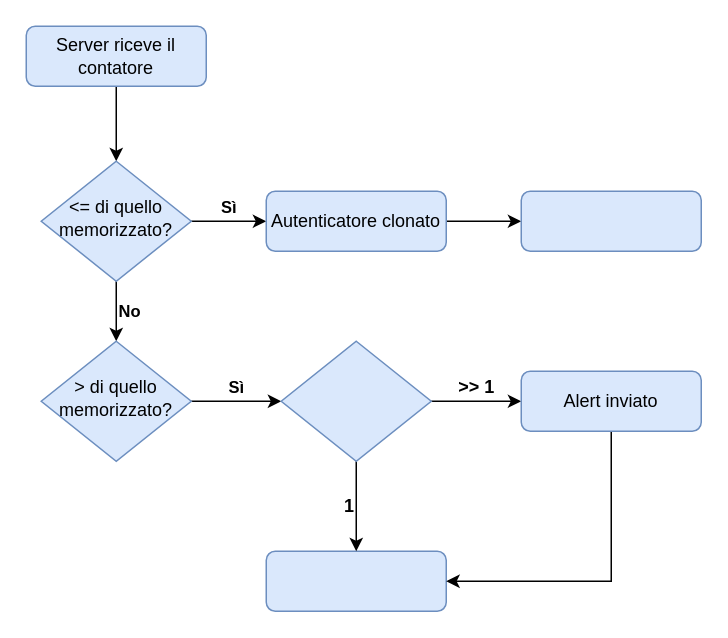
Some shapes in this 728 by 638 pixel diagram are drawn without their labels. The shapes that lost their labels are listed below. From the top down, each one's centre as x and y in pixels, then its label:
At (610,220): "Autenticazione fallita".
At (355,400): "di quanto?".
At (355,580): "Autenticazione completata".
